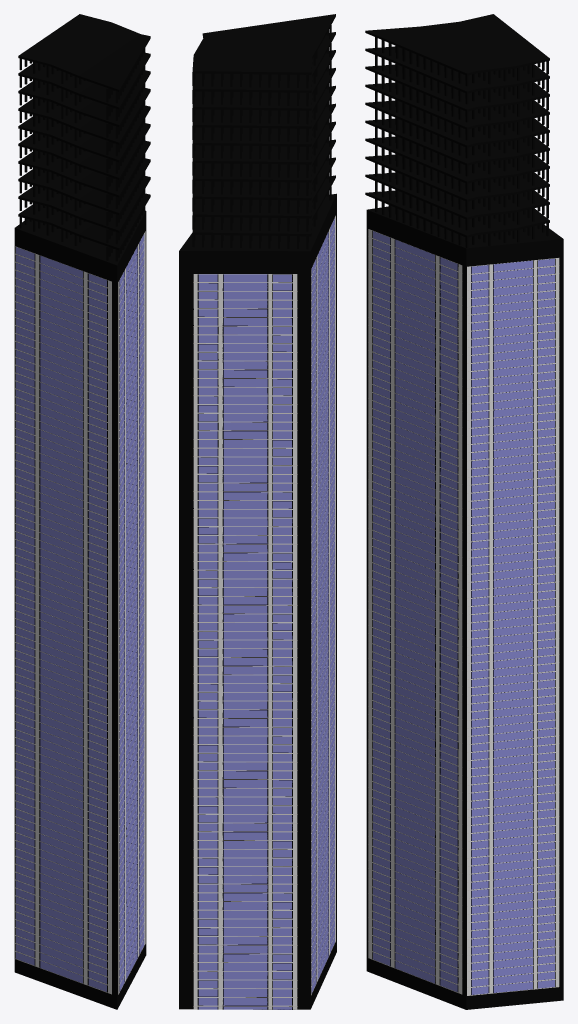
File: TwoKensingtonBoulevard.fbx
3 renders of one model, left to right at view 1: azimuth 30°, elevation 25°; view 2: azimuth 150°, elevation 25°; view 3: azimuth 270°, elevation 25°, orthographic. The views are drawn at different scales.
Parts seen in each view (by area): view 1: Window, TKB_Construction, Window.001, TwoKensingtonBoulevard; view 2: Window.003, TKB_Construction, TwoKensingtonBoulevard, Window; view 3: Window.001, Window.002, TKB_Construction, TwoKensingtonBoulevard.
Boxes of the visible parts, x1=… form: Window: x1=14, y1=246, x2=111, y2=994; TKB_Construction: x1=18, y1=14, x2=150, y2=261; Window.001: x1=118, y1=231, x2=145, y2=994; TwoKensingtonBoulevard: x1=14, y1=210, x2=146, y2=1009; Window.003: x1=193, y1=274, x2=297, y2=1009; TKB_Construction: x1=192, y1=14, x2=335, y2=249; TwoKensingtonBoulevard: x1=179, y1=193, x2=336, y2=1009; Window: x1=311, y1=215, x2=335, y2=995; Window.001: x1=368, y1=229, x2=462, y2=994; Window.002: x1=467, y1=258, x2=559, y2=995; TKB_Construction: x1=365, y1=14, x2=549, y2=247; TwoKensingtonBoulevard: x1=366, y1=206, x2=563, y2=1009.
Size of the model in its own units: 3272 by 23704 by 4524.
